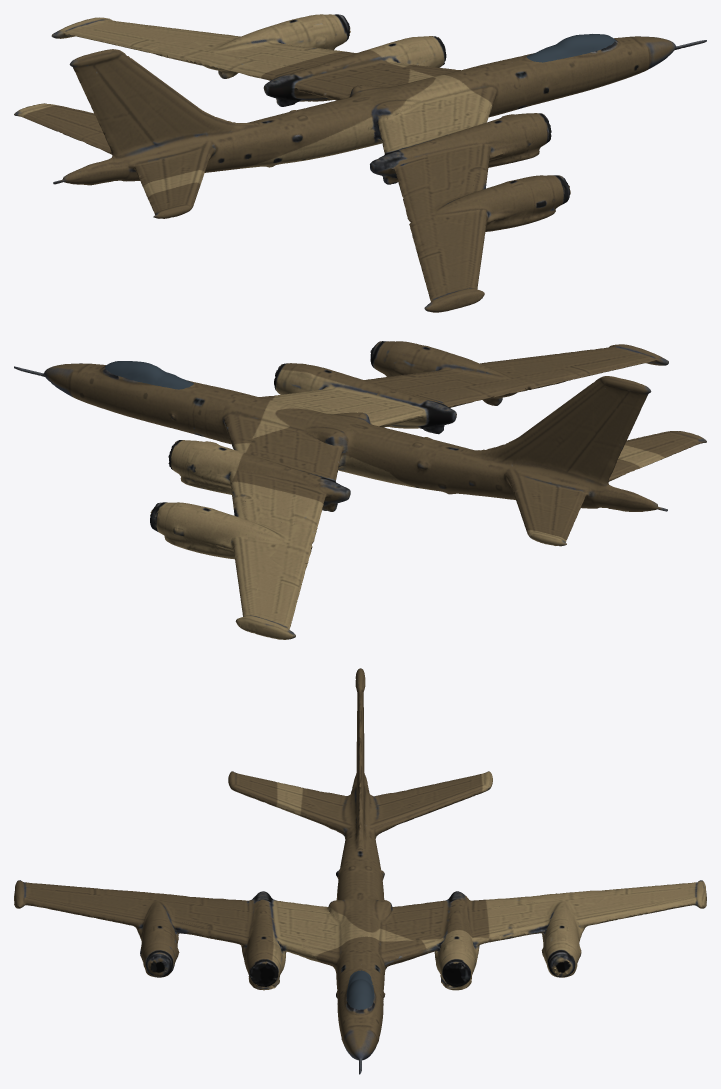
File: fh_hangar_bomber_1.glb
3 renders of one model, top to bottom at view 1: azimuth 30°, elevation 25°; view 2: azimuth 150°, elevation 25°; view 3: azimuth 270°, elevation 25°, orthographic. The views are drawn at different scales.
Parts seen in each view (by area): view 1: fh_hangar_bomber_1, flap_r, flap_l; view 2: fh_hangar_bomber_1, flap_l, flap_r, slat_l2; view 3: fh_hangar_bomber_1, slat_l2, slat_r2.
Boxes of the visible parts, bbox=[...] form: fh_hangar_bomber_1: bbox=[14, 14, 706, 312]; flap_r: bbox=[399, 176, 443, 213]; flap_l: bbox=[202, 51, 270, 75]; fh_hangar_bomber_1: bbox=[14, 341, 706, 639]; flap_l: bbox=[277, 503, 321, 540]; flap_r: bbox=[450, 378, 517, 402]; slat_l2: bbox=[236, 563, 249, 614]; fh_hangar_bomber_1: bbox=[14, 668, 706, 1074]; slat_l2: bbox=[616, 898, 692, 919]; slat_r2: bbox=[28, 898, 104, 919].
Size of the model in its own units: 0.9975 by 0.242 by 1.
3 materials, 1 textured.
